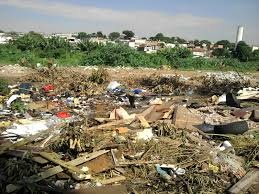rubble: (9, 80, 253, 183)
